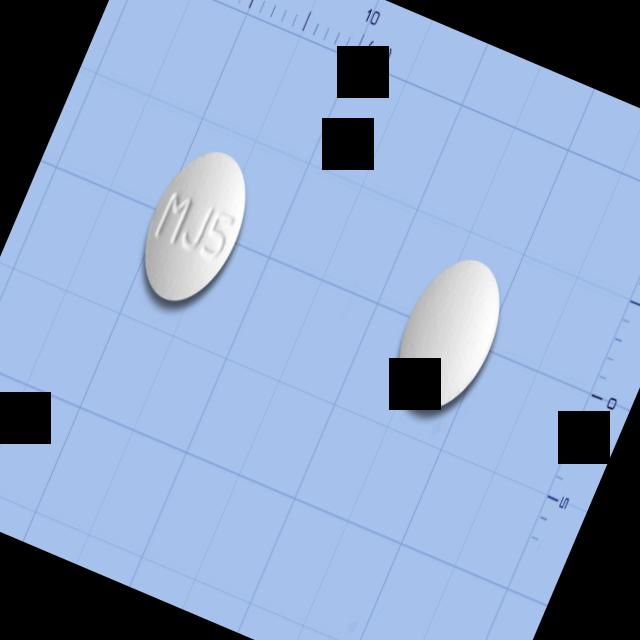Levofcin: (124, 136, 268, 318)
